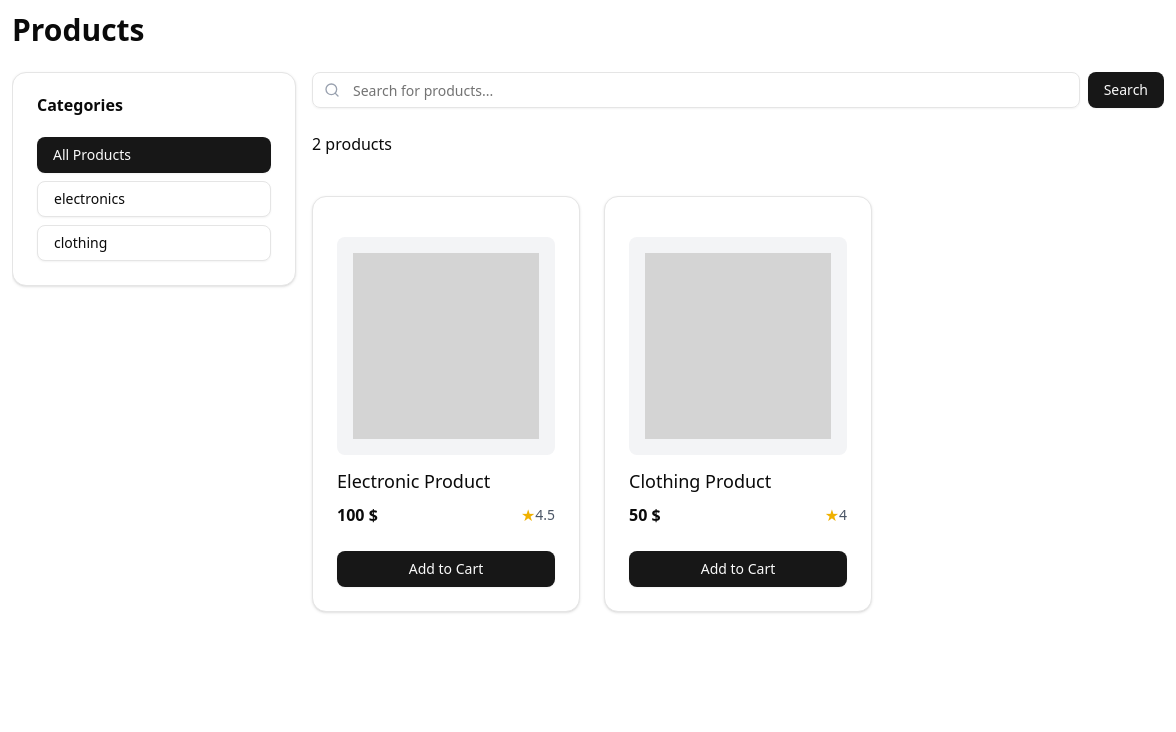
ProductsPage › should filter products by search
The image size is (1176, 732).
Expected: the element with test id "product-grid" is shown, [312,133,872,612]
In the field with test id "search-input": [696, 90] box [312,72,1080,108], type "Electronic"
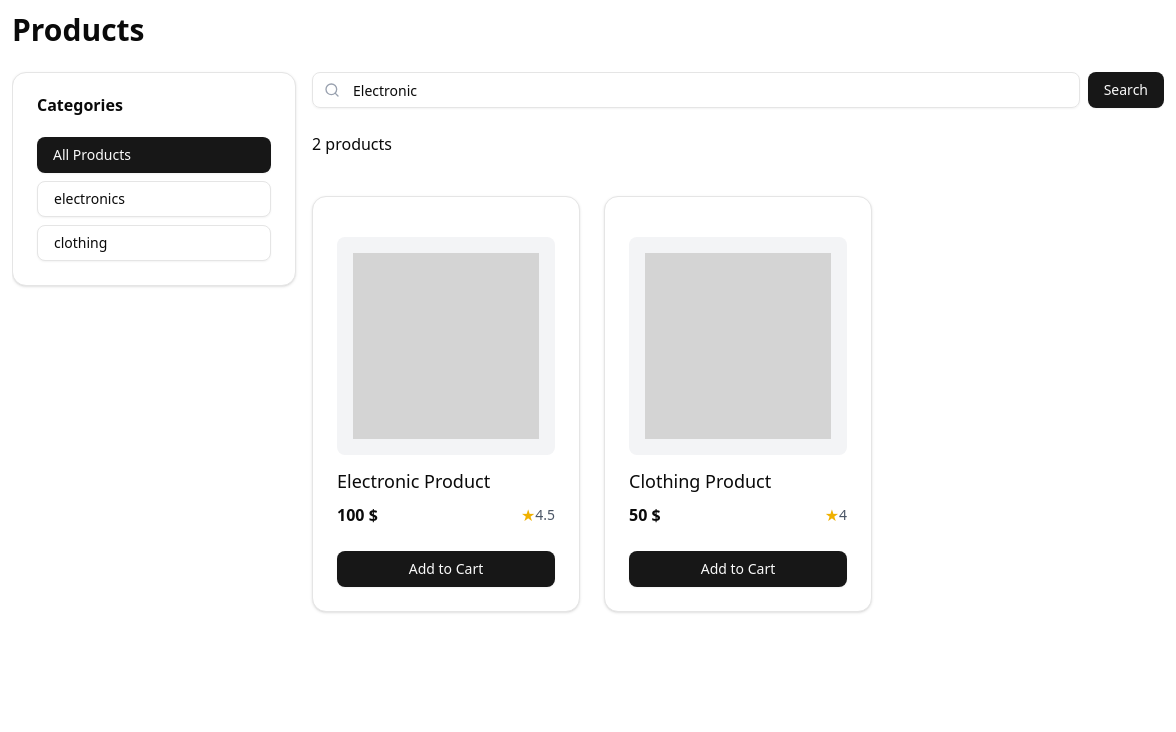
Submit the form with test id "search-input", box [312,72,1164,108]
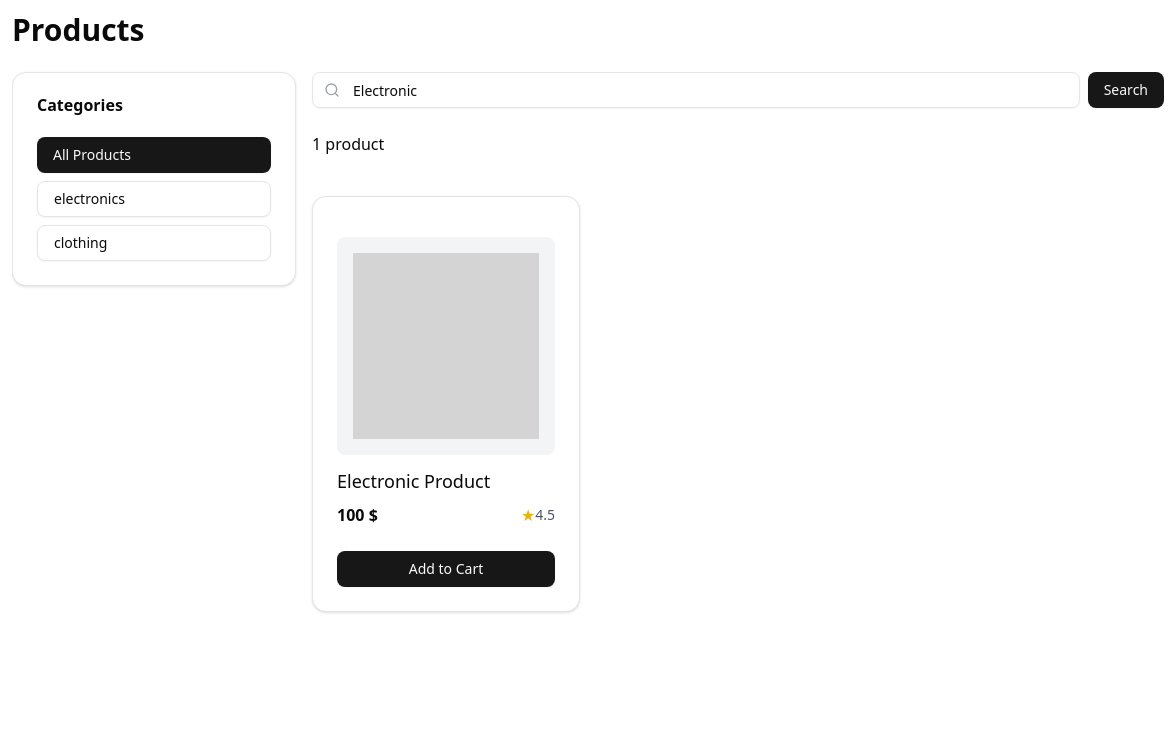
Expected: the element with test id "product-grid" shows "1 product", [312,133,580,612]
